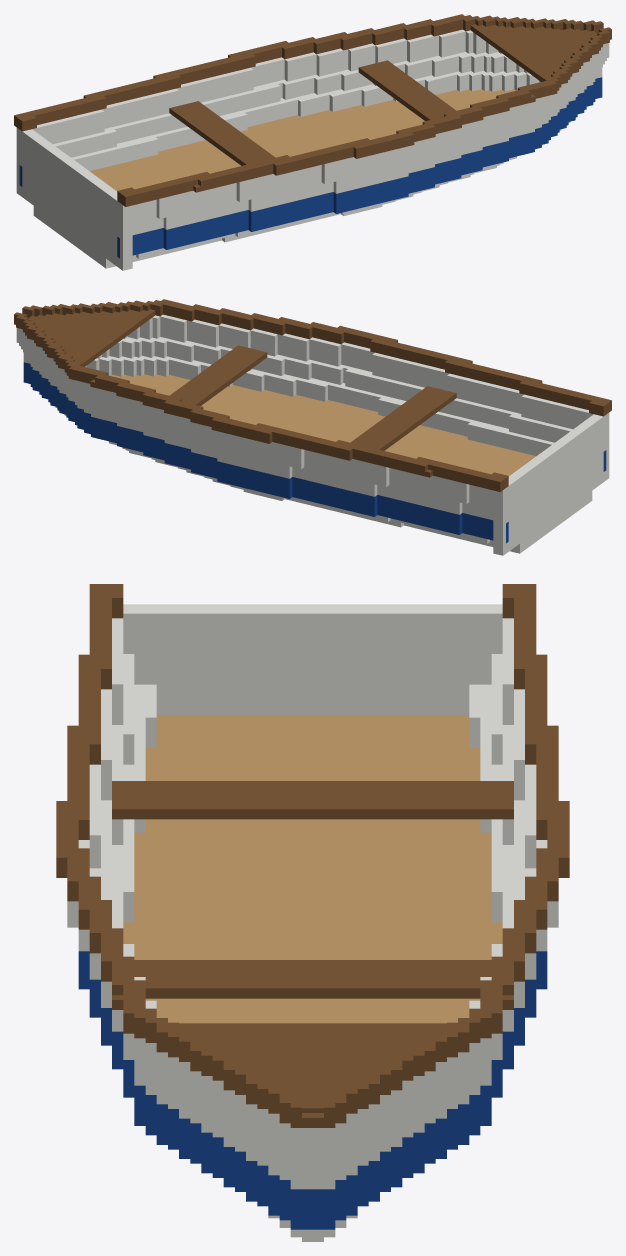
File: boat_trailer_boat.glb
3 renders of one model, top to bottom at view 1: azimuth 30°, elevation 25°; view 2: azimuth 150°, elevation 25°; view 3: azimuth 270°, elevation 25°, orthographic. The views are drawn at different scales.
Visible parts, largest first — view 1: body:compound; view 2: body:compound; view 3: body:compound.
Boxes of the visible parts, left/top/right/bottom form: body:compound: left=14, top=14, right=611, bottom=270; body:compound: left=14, top=299, right=611, bottom=555; body:compound: left=56, top=584, right=569, bottom=1241.
Bounding box in the file's own units: 3.47 × 0.5625 × 1.44.
